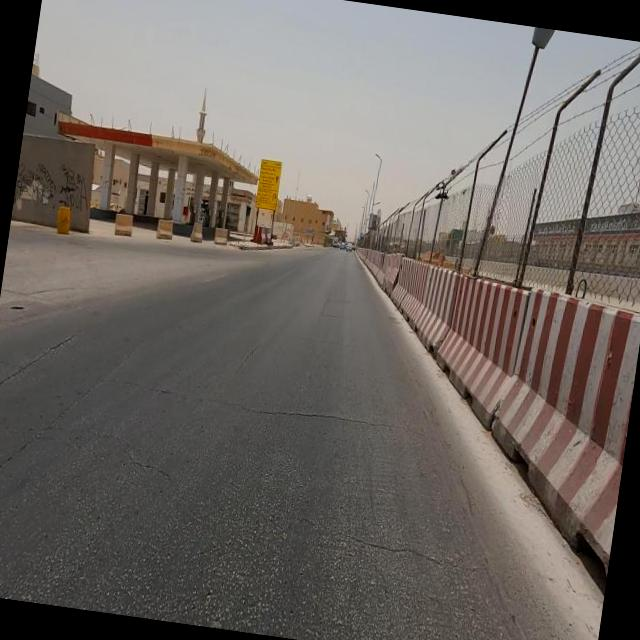debris: (32, 126, 134, 268), (9, 138, 82, 240)
